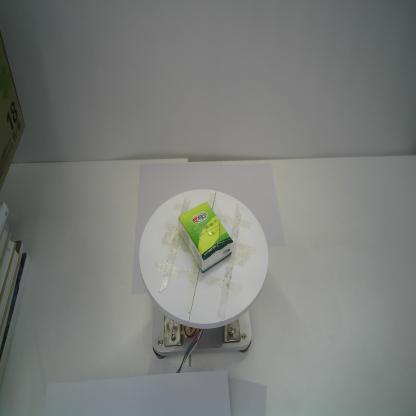Tissue: (177, 200, 234, 274)
